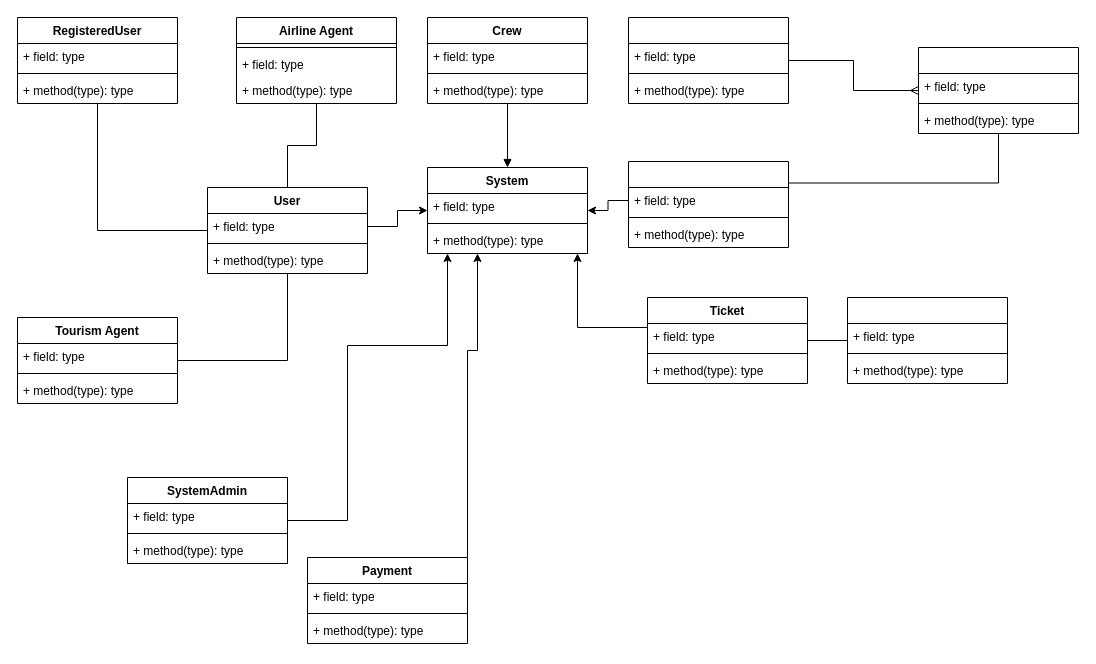
The diagram is 1096 pixels wide and 664 high, and some of its shapes have lost their labels. The shapes that lost their labels are listed below. From the top down, each one's box as (x1, y1, x2, y2) in pixels, then its label:
(628, 16, 788, 104): Seat
(918, 46, 1078, 134): Aircraft
(628, 160, 788, 248): Flight
(846, 296, 1008, 384): Insurance
